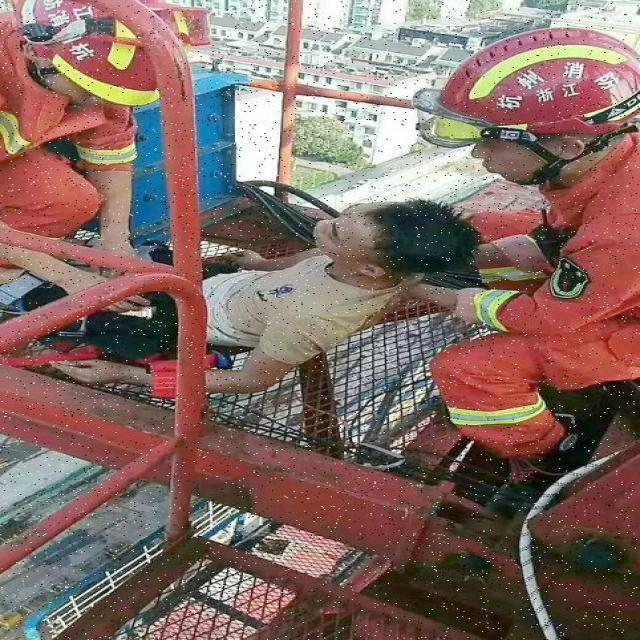fall: (84, 205, 421, 381)
